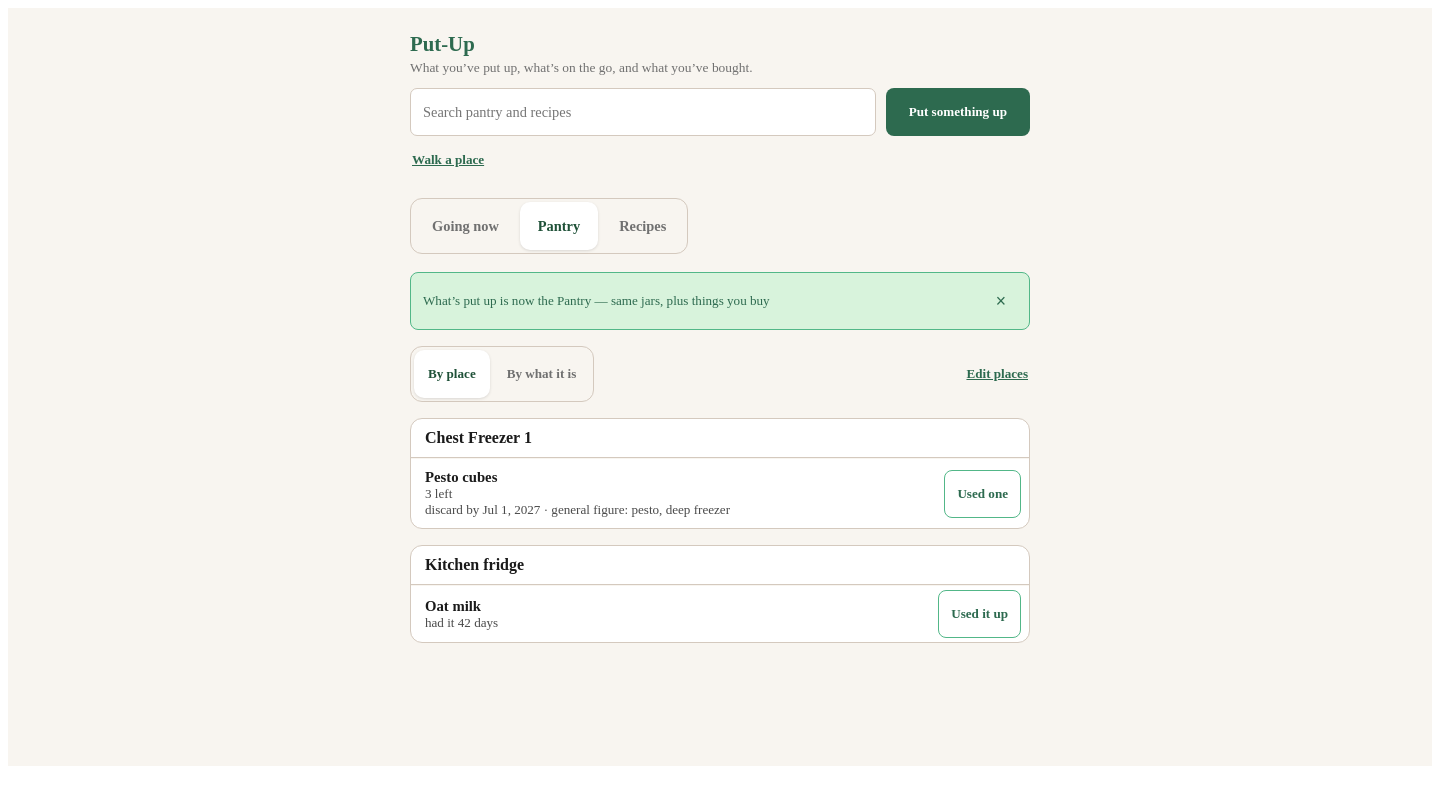
Scenario: the page reads the batch names once, for both children › no jar with a batch: no names read, on the Pantry or under a search
Expected: the button with test id "pantry-row-open-put_up:jar-plain" is shown, [419, 463, 936, 524]
Type "pesto" into the search field with test id "pantry-search" at coordinates (643, 112), box [410, 88, 876, 136]
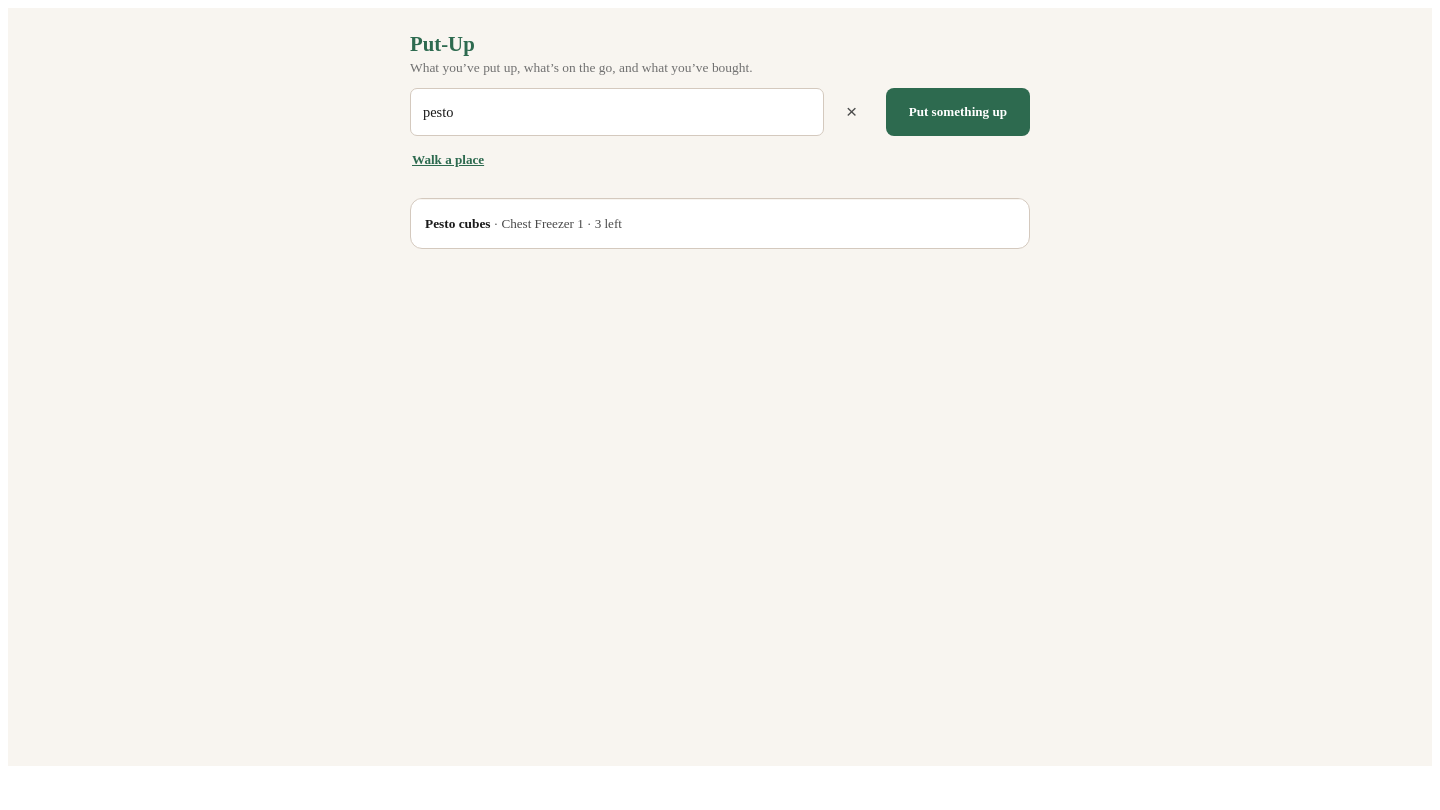
Expected: the button with test id "pantry-search-hit-put_up:jar-plain" is shown, [411, 200, 1029, 248]
